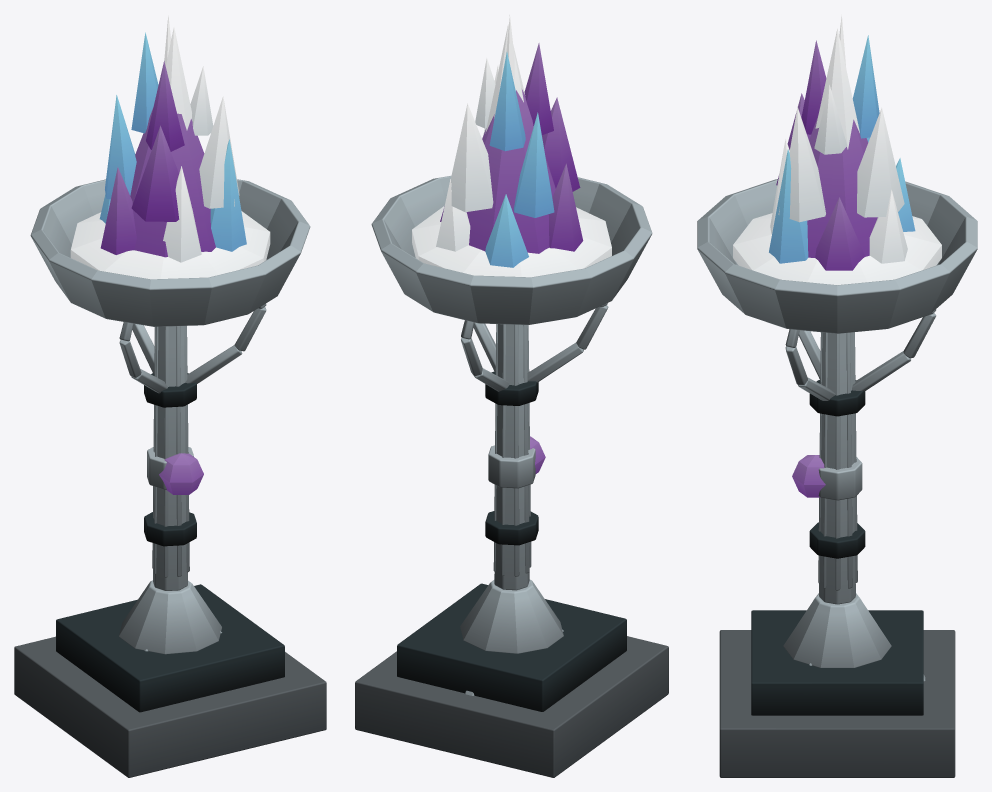
Rendered from feast_brazier.glb.
3 renders of one model, left to right at view 1: azimuth 30°, elevation 25°; view 2: azimuth 150°, elevation 25°; view 3: azimuth 270°, elevation 25°, orthographic. The views are drawn at different scales.
Visible parts, largest first — view 1: feast_brazier; view 2: feast_brazier; view 3: feast_brazier.
Part boxes in pixels (<box>): feast_brazier: <box>14,15,326,777</box>; feast_brazier: <box>355,15,668,777</box>; feast_brazier: <box>697,14,977,777</box>.
Size of the model in its own units: 1.83 by 5.02 by 1.79.
6 materials, 6 textured.
